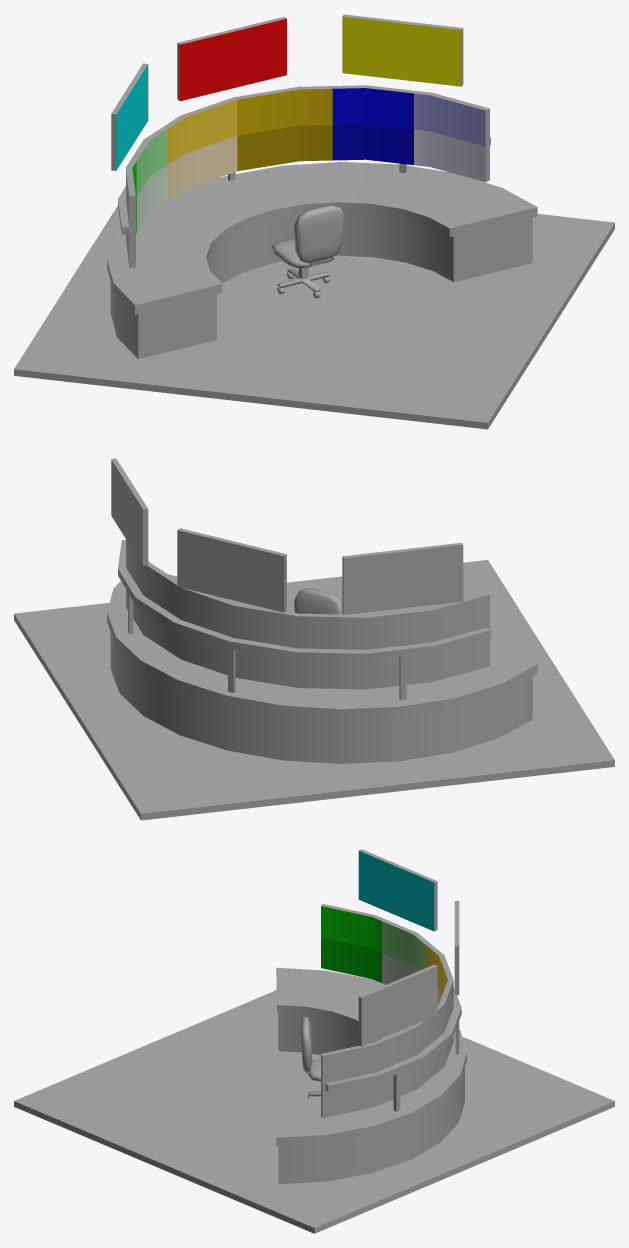
Rendered from Control_Room_splitScreen.fbx.
The picture shows the model from 3 angles, top to bottom: view 1: azimuth 30°, elevation 25°; view 2: azimuth 150°, elevation 25°; view 3: azimuth 270°, elevation 25°; orthographic projection. The views are drawn at different scales.
Visible parts, largest first — view 1: ControlRoom, Top_right_screen, Top_mid_screen, Chair, Main_Screen2_2, Main_Screen2_4, Main_Screen3_1, Main_Screen3_3, Main_Screen3_2, Main_Screen3_4, Main_Screen2_1, Main_Screen2_3 (+3 smaller); view 2: ControlRoom, Chair; view 3: ControlRoom, Top_left_screen, Main_Screen1_1, Main_Screen1_3, Main_Screen1_2, Chair, Main_Screen1_4.
Part boxes in pixels (x1,y1,x2,y2): ControlRoom: (14,14,614,429); Top_right_screen: (342,16,461,86); Top_mid_screen: (180,18,286,101); Chair: (272,205,344,298); Main_Screen2_2: (237,88,332,135); Main_Screen2_4: (237,125,332,171); Main_Screen3_1: (332,88,413,129); Main_Screen3_3: (332,124,413,165); Main_Screen3_2: (414,93,485,146); Main_Screen3_4: (414,129,485,182); Main_Screen2_1: (167,100,237,164); Main_Screen2_3: (167,136,237,200); ControlRoom: (14,458,614,820); Chair: (294,588,343,614); ControlRoom: (14,849,614,1233); Top_left_screen: (358,851,434,931); Main_Screen1_1: (321,906,381,952); Main_Screen1_3: (321,937,381,982); Main_Screen1_2: (382,921,425,970); Chair: (301,1017,320,1098); Main_Screen1_4: (382,952,418,984).
Size of the model in its own units: 5.38 by 1.81 by 5.38.
